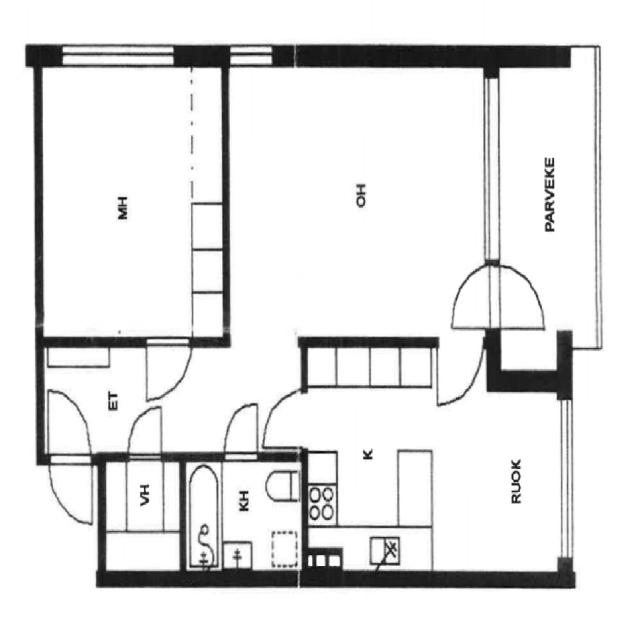door: (43, 384, 98, 528), (138, 325, 198, 407), (491, 257, 552, 336), (263, 380, 316, 452), (434, 339, 486, 409), (216, 394, 265, 466), (448, 258, 492, 330), (121, 400, 169, 465)
window: (53, 32, 183, 78), (480, 66, 503, 272), (554, 389, 575, 562), (223, 34, 285, 73)
zone: (229, 61, 491, 342), (35, 55, 227, 340), (492, 48, 602, 376), (306, 341, 433, 581), (435, 376, 573, 580), (182, 457, 307, 577), (100, 455, 188, 579)
